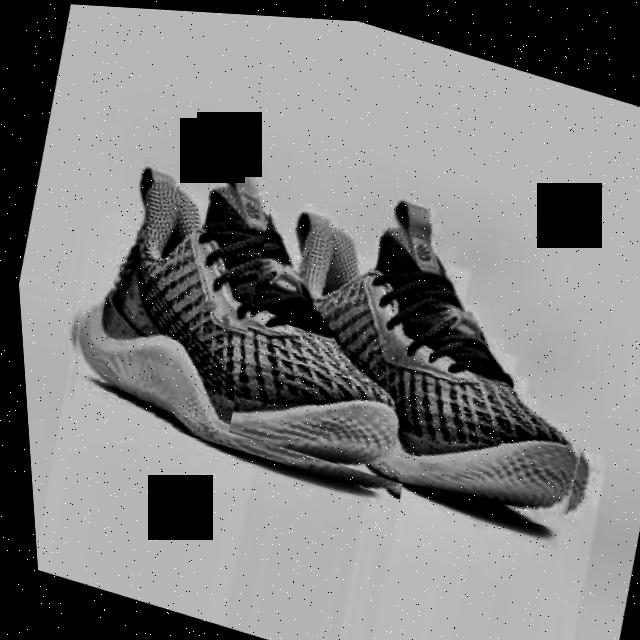shoe: (38, 107, 464, 497), (208, 156, 638, 534)
